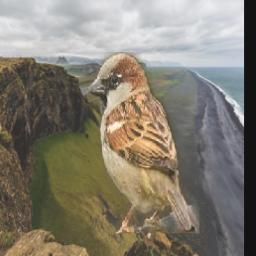Sparrow: (86, 53, 198, 234)
